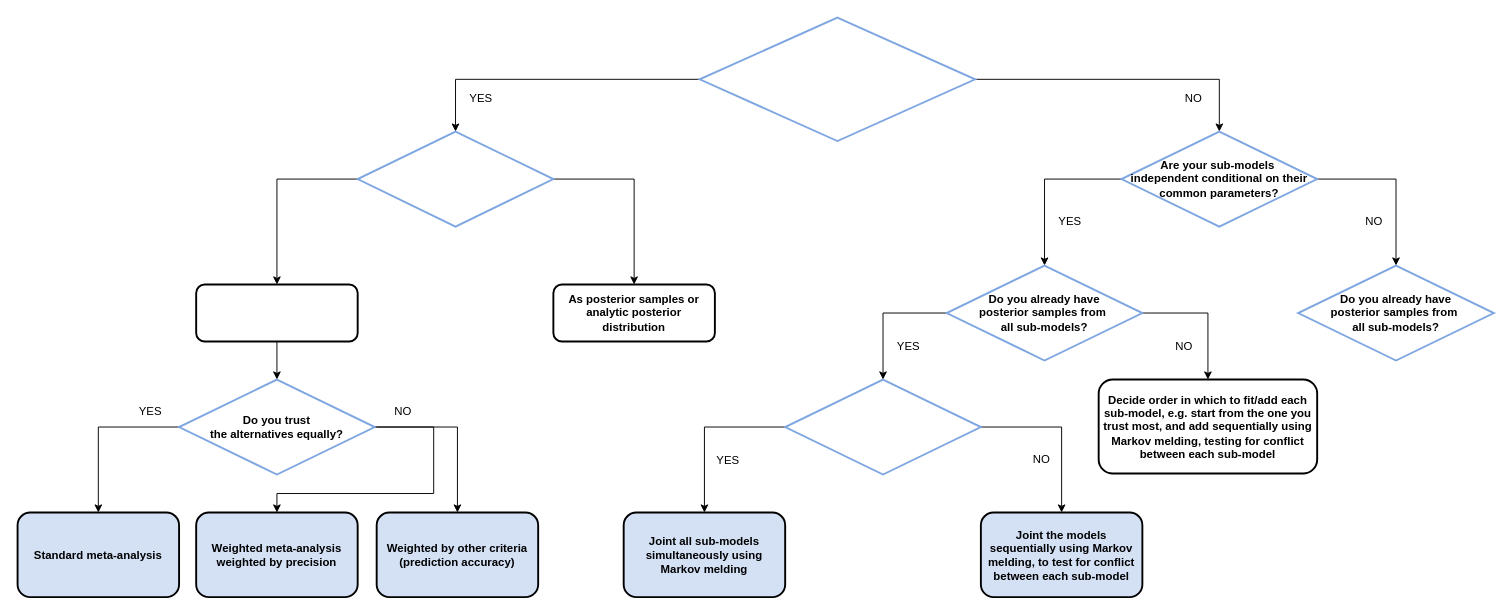
Image size: 1511x614. Some labels were removed from this diagram. Each missing label, with the centre of its shape:
"Are you already convinced that all sub-models give consistent results?" goes at (x=882, y=426).
"Are you combining alternative/competing models from different groups?" goes at (x=837, y=79).
"As point estimate and confidence/credible interval" goes at (x=276, y=312).
"How are the results from each available?" goes at (x=455, y=178).
